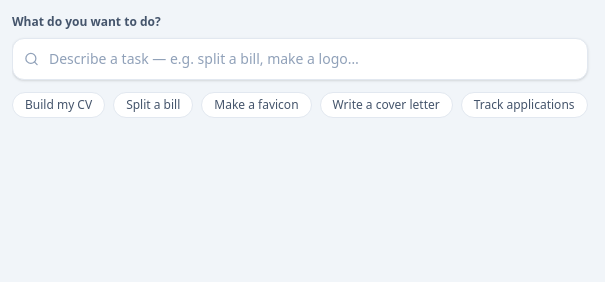
it: HeroPrompt › suggests tools for a plain-language query
The width and height of the screenshot is (605, 282).
In the search field named "What do you want to do?": [300, 59] box [12,38,588,80], type "resume"
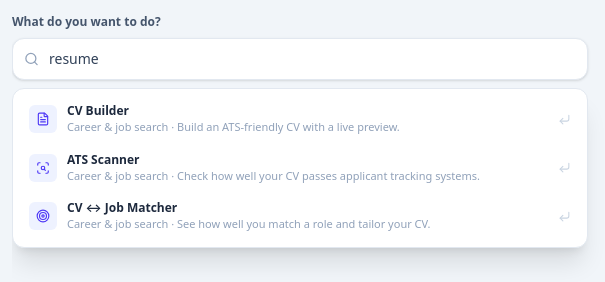
Check: the option "CV Builder" is shown, box [19,95,581,144]
